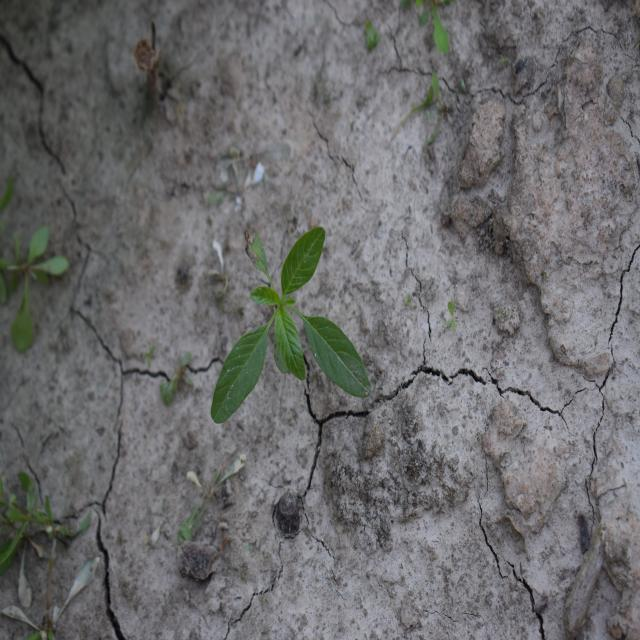Carpetweed: (1, 230, 71, 357)
Waterhemp: (209, 224, 372, 425)
